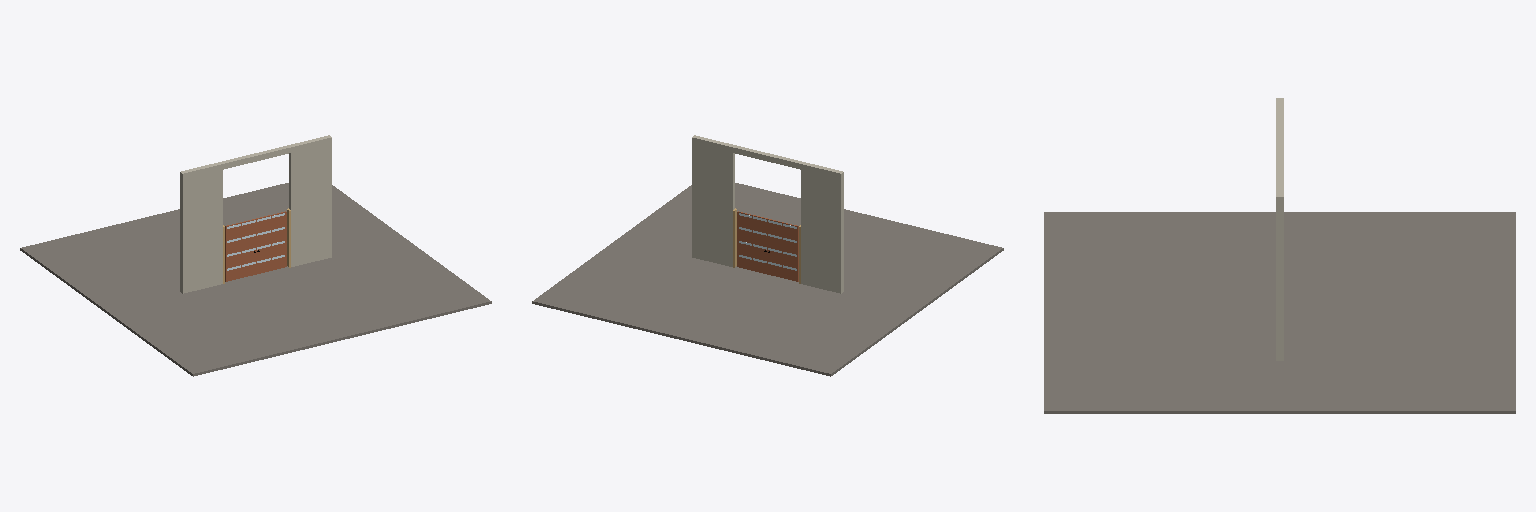
robot.urdf — db0433_garage_sectional_minimal:
<?xml version="1.0" ?>
<robot xmlns:doorbench="https://github.com/adamraudonis/DoorBench/schema/urdf-ext" name="db0433_garage_sectional_minimal">
  <link name="world_env">
    <visual name="floor_vis">
      <origin xyz="0 0 -0.05" rpy="0 0 0"/>
      <geometry>
        <box size="12 12 0.1"/>
      </geometry>
      <material name="mat_floor"/>
    </visual>
    <collision name="floor_col">
      <origin xyz="0 0 -0.05" rpy="0 0 0"/>
      <geometry>
        <box size="12 12 0.1"/>
      </geometry>
    </collision>
    <visual name="wall_left_vis">
      <origin xyz="-2.1825 0 2.305" rpy="0 0 0"/>
      <geometry>
        <box size="1.635 0.2 4.61"/>
      </geometry>
      <material name="mat_wall"/>
    </visual>
    <collision name="wall_left_col">
      <origin xyz="-2.1825 0 2.305" rpy="0 0 0"/>
      <geometry>
        <box size="1.635 0.2 4.61"/>
      </geometry>
    </collision>
    <visual name="wall_right_vis">
      <origin xyz="2.1825 0 2.305" rpy="0 0 0"/>
      <geometry>
        <box size="1.635 0.2 4.61"/>
      </geometry>
      <material name="mat_wall"/>
    </visual>
    <collision name="wall_right_col">
      <origin xyz="2.1825 0 2.305" rpy="0 0 0"/>
      <geometry>
        <box size="1.635 0.2 4.61"/>
      </geometry>
    </collision>
    <visual name="wall_header_vis">
      <origin xyz="0 0 4.5" rpy="0 0 0"/>
      <geometry>
        <box size="2.73 0.2 0.22"/>
      </geometry>
      <material name="mat_wall"/>
    </visual>
    <collision name="wall_header_col">
      <origin xyz="0 0 4.5" rpy="0 0 0"/>
      <geometry>
        <box size="2.73 0.2 0.22"/>
      </geometry>
    </collision>
    <visual name="garage_jamb_l_vis">
      <origin xyz="-1.325 0 1.09" rpy="0 0 0"/>
      <geometry>
        <box size="0.08 0.2 2.18"/>
      </geometry>
      <material name="mat_frame"/>
    </visual>
    <collision name="garage_jamb_l_col">
      <origin xyz="-1.325 0 1.09" rpy="0 0 0"/>
      <geometry>
        <box size="0.08 0.2 2.18"/>
      </geometry>
    </collision>
    <visual name="garage_jamb_r_vis">
      <origin xyz="1.325 0 1.09" rpy="0 0 0"/>
      <geometry>
        <box size="0.08 0.2 2.18"/>
      </geometry>
      <material name="mat_frame"/>
    </visual>
    <collision name="garage_jamb_r_col">
      <origin xyz="1.325 0 1.09" rpy="0 0 0"/>
      <geometry>
        <box size="0.08 0.2 2.18"/>
      </geometry>
    </collision>
  </link>
  <link name="door">
    <inertial>
      <origin xyz="0 0 1.072825" rpy="0 0 0"/>
      <mass value="79.93599"/>
      <inertia ixx="29.880737702" ixy="0" ixz="0" iyy="69.013212332" iyz="0" izz="39.167918265"/>
    </inertial>
    <visual name="section_0_slab_vis">
      <origin xyz="0 0 0.27625" rpy="0 0 0"/>
      <geometry>
        <box size="2.44 0.045 0.5325"/>
      </geometry>
      <material name="mat_section_0"/>
    </visual>
    <collision name="section_0_slab_col">
      <origin xyz="0 0 0.27625" rpy="0 0 0"/>
      <geometry>
        <box size="2.44 0.045 0.5325"/>
      </geometry>
    </collision>
    <visual name="section_0_glass_0_vis">
      <origin xyz="-0.8925 0 0.46795" rpy="0 0 0"/>
      <geometry>
        <box size="0.555 0.0466 0.0852"/>
      </geometry>
      <material name="mat_glass"/>
    </visual>
    <visual name="section_0_glass_1_vis">
      <origin xyz="-0.2975 0 0.46795" rpy="0 0 0"/>
      <geometry>
        <box size="0.555 0.0466 0.0852"/>
      </geometry>
      <material name="mat_glass"/>
    </visual>
    <visual name="section_0_glass_2_vis">
      <origin xyz="0.2975 0 0.46795" rpy="0 0 0"/>
      <geometry>
        <box size="0.555 0.0466 0.0852"/>
      </geometry>
      <material name="mat_glass"/>
    </visual>
    <visual name="section_0_glass_3_vis">
      <origin xyz="0.8925 0 0.46795" rpy="0 0 0"/>
      <geometry>
        <box size="0.555 0.0466 0.0852"/>
      </geometry>
      <material name="mat_glass"/>
    </visual>
    <visual name="section_1_slab_vis">
      <origin xyz="0 0 0.80875" rpy="0 0 0"/>
      <geometry>
        <box size="2.44 0.045 0.5325"/>
      </geometry>
      <material name="mat_section_1"/>
    </visual>
    <collision name="section_1_slab_col">
      <origin xyz="0 0 0.80875" rpy="0 0 0"/>
      <geometry>
        <box size="2.44 0.045 0.5325"/>
      </geometry>
    </collision>
    <visual name="section_1_glass_0_vis">
      <origin xyz="-0.8925 0 1.00045" rpy="0 0 0"/>
      <geometry>
        <box size="0.555 0.0466 0.0852"/>
      </geometry>
      <material name="mat_glass"/>
    </visual>
    <visual name="section_1_glass_1_vis">
      <origin xyz="-0.2975 0 1.00045" rpy="0 0 0"/>
      <geometry>
        <box size="0.555 0.0466 0.0852"/>
      </geometry>
      <material name="mat_glass"/>
    </visual>
    <visual name="section_1_glass_2_vis">
      <origin xyz="0.2975 0 1.00045" rpy="0 0 0"/>
      <geometry>
        <box size="0.555 0.0466 0.0852"/>
      </geometry>
      <material name="mat_glass"/>
    </visual>
    <visual name="section_1_glass_3_vis">
      <origin xyz="0.8925 0 1.00045" rpy="0 0 0"/>
      <geometry>
        <box size="0.555 0.0466 0.0852"/>
      </geometry>
      <material name="mat_glass"/>
    </visual>
    <visual name="section_2_slab_vis">
      <origin xyz="0 0 1.34125" rpy="0 0 0"/>
      <geometry>
        <box size="2.44 0.045 0.5325"/>
      </geometry>
      <material name="mat_section_2"/>
    </visual>
    <collision name="section_2_slab_col">
      <origin xyz="0 0 1.34125" rpy="0 0 0"/>
      <geometry>
        <box size="2.44 0.045 0.5325"/>
      </geometry>
    </collision>
    <visual name="section_2_glass_0_vis">
      <origin xyz="-0.8925 0 1.53295" rpy="0 0 0"/>
      <geometry>
        <box size="0.555 0.0466 0.0852"/>
      </geometry>
      <material name="mat_glass"/>
    </visual>
    <visual name="section_2_glass_1_vis">
      <origin xyz="-0.2975 0 1.53295" rpy="0 0 0"/>
      <geometry>
        <box size="0.555 0.0466 0.0852"/>
      </geometry>
      <material name="mat_glass"/>
    </visual>
    <visual name="section_2_glass_2_vis">
      <origin xyz="0.2975 0 1.53295" rpy="0 0 0"/>
      <geometry>
        <box size="0.555 0.0466 0.0852"/>
      </geometry>
      <material name="mat_glass"/>
    </visual>
    <visual name="section_2_glass_3_vis">
      <origin xyz="0.8925 0 1.53295" rpy="0 0 0"/>
      <geometry>
        <box size="0.555 0.0466 0.0852"/>
      </geometry>
      <material name="mat_glass"/>
    </visual>
    <visual name="section_3_slab_vis">
      <origin xyz="0 0 1.87375" rpy="0 0 0"/>
      <geometry>
        <box size="2.44 0.045 0.5325"/>
      </geometry>
      <material name="mat_section_3"/>
    </visual>
    <collision name="section_3_slab_col">
      <origin xyz="0 0 1.87375" rpy="0 0 0"/>
      <geometry>
        <box size="2.44 0.045 0.5325"/>
      </geometry>
    </collision>
    <visual name="section_3_glass_0_vis">
      <origin xyz="-0.8925 0 2.06545" rpy="0 0 0"/>
      <geometry>
        <box size="0.555 0.0466 0.0852"/>
      </geometry>
      <material name="mat_glass"/>
    </visual>
    <visual name="section_3_glass_1_vis">
      <origin xyz="-0.2975 0 2.06545" rpy="0 0 0"/>
      <geometry>
        <box size="0.555 0.0466 0.0852"/>
      </geometry>
      <material name="mat_glass"/>
    </visual>
    <visual name="section_3_glass_2_vis">
      <origin xyz="0.2975 0 2.06545" rpy="0 0 0"/>
      <geometry>
        <box size="0.555 0.0466 0.0852"/>
      </geometry>
      <material name="mat_glass"/>
    </visual>
    <visual name="section_3_glass_3_vis">
      <origin xyz="0.8925 0 2.06545" rpy="0 0 0"/>
      <geometry>
        <box size="0.555 0.0466 0.0852"/>
      </geometry>
      <material name="mat_glass"/>
    </visual>
    <visual name="lift_handle_n_vis">
      <origin xyz="0 -0.0225 0.9" rpy="1.570796 0 0"/>
      <geometry>
        <mesh filename="../../hardware/pull_bdc5e965ab.obj"/>
      </geometry>
      <material name="mat_op_black_matte_metal"/>
    </visual>
    <collision name="lift_handle_col_n_col">
      <origin xyz="0 -0.0725 0.9" rpy="0 0 0"/>
      <geometry>
        <box size="0.2 0.012 0.03"/>
      </geometry>
    </collision>
    <visual name="lift_handle_p_vis">
      <origin xyz="0 0.0225 0.9" rpy="-1.570796 0 0"/>
      <geometry>
        <mesh filename="../../hardware/pull_bdc5e965ab.obj"/>
      </geometry>
      <material name="mat_op_black_matte_metal"/>
    </visual>
    <collision name="lift_handle_col_p_col">
      <origin xyz="0 0.0725 0.9" rpy="0 0 0"/>
      <geometry>
        <box size="0.2 0.012 0.03"/>
      </geometry>
    </collision>
  </link>
  <joint name="door_slide" type="prismatic">
    <origin xyz="0 0 0" rpy="0 0 0"/>
    <parent link="world_env"/>
    <child link="door"/>
    <axis xyz="0 0 1"/>
    <limit lower="0" upper="2.08" effort="5000" velocity="10"/>
    <dynamics damping="6.004164" friction="31.41395"/>
    <doorbench:spring stiffness="96.313627" springref="6.933333" note="tau = -stiffness*(q - springref); not native URDF"/>
    <doorbench:note text="counterbalance spring ~85% of weight counterbalance ~85% of 80 kg"/>
  </joint>
  <material name="mat_floor">
    <color rgba="0.55 0.53 0.5 1"/>
  </material>
  <material name="mat_frame">
    <color rgba="0.82 0.7 0.5 1"/>
  </material>
  <material name="mat_glass">
    <color rgba="0.85 0.92 0.95 0.25"/>
  </material>
  <material name="mat_op_black_matte_metal">
    <color rgba="0.05 0.05 0.05 1"/>
  </material>
  <material name="mat_section_0">
    <color rgba="0.7 0.45 0.32 1"/>
  </material>
  <material name="mat_section_1">
    <color rgba="0.7 0.45 0.32 1"/>
  </material>
  <material name="mat_section_2">
    <color rgba="0.7 0.45 0.32 1"/>
  </material>
  <material name="mat_section_3">
    <color rgba="0.7 0.45 0.32 1"/>
  </material>
  <material name="mat_wall">
    <color rgba="0.78 0.76 0.7 1"/>
  </material>
</robot>

--- Render facts (derived) ---
3 views of the same robot in one strip: view 1: azimuth 30°, elevation 25°; view 2: azimuth 150°, elevation 25°; view 3: azimuth 270°, elevation 25° (orthographic).
Model db0433_garage_sectional_minimal with 2 links and 1 joints (1 prismatic), rooted at world_env, posed every joint at zero.
Links seen in each view (by area): view 1: world_env, door; view 2: world_env, door; view 3: world_env.
Boxes of the visible links, bbox=[...] form: world_env: bbox=[20, 135, 491, 376]; door: bbox=[225, 211, 286, 281]; world_env: bbox=[532, 135, 1003, 376]; door: bbox=[737, 211, 798, 281]; world_env: bbox=[1044, 98, 1515, 413].
Bounding box of the posed robot: 12 × 12 × 4.71 m (x, y, z).
2 mesh visuals loaded from 1 distinct referenced files (1 OBJ).
